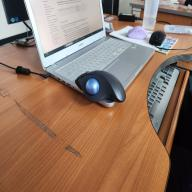Mouse: (71, 67, 131, 113), (125, 23, 149, 42), (149, 23, 168, 47)
